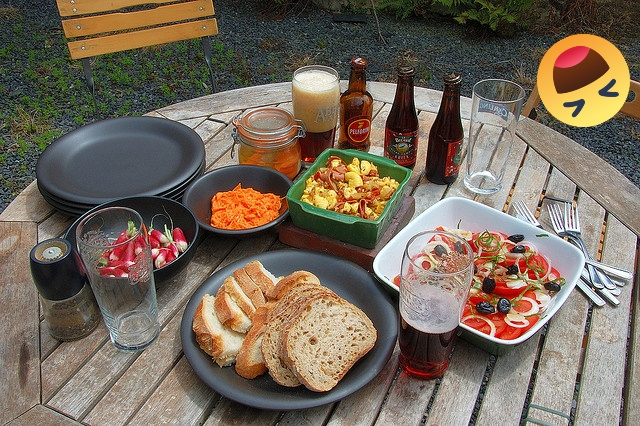haha: (537, 34, 630, 127)
